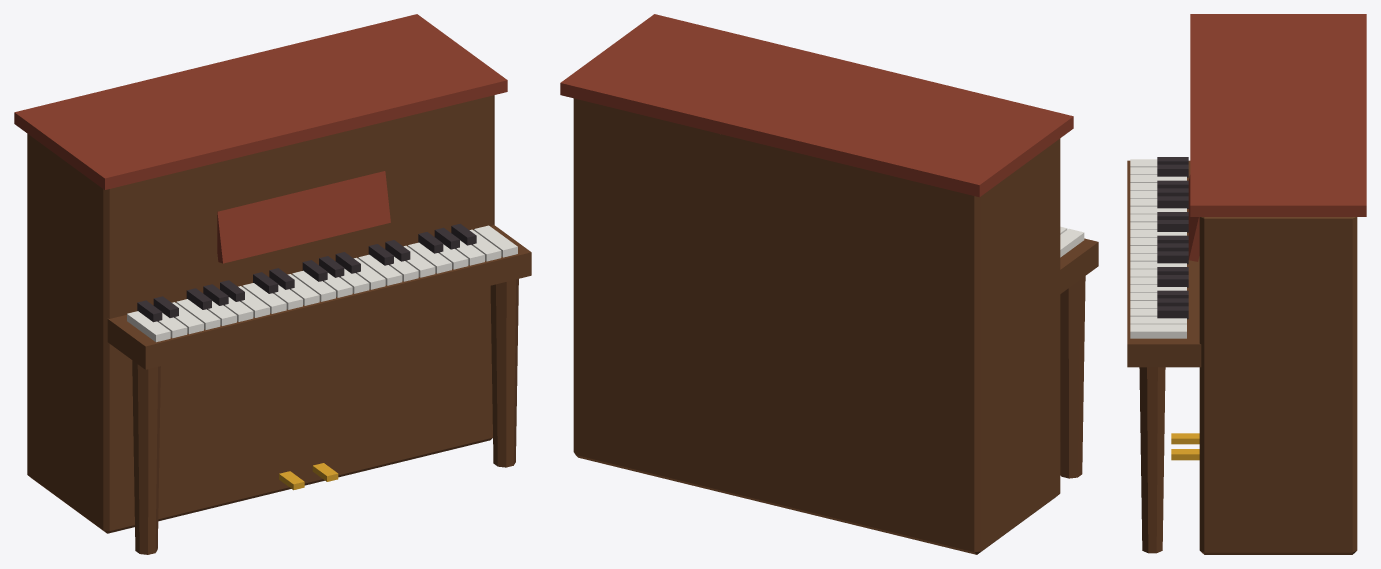
The model's file is piano.glb.
The picture shows the model from 3 angles, left to right: view 1: azimuth 30°, elevation 25°; view 2: azimuth 150°, elevation 25°; view 3: azimuth 270°, elevation 25°; orthographic projection. The views are drawn at different scales.
Visible parts, largest first — view 1: Piano case, Piano lid, Piano key bed, Piano white keys, Piano legs, Piano stand, Piano black keys, Piano pedals; view 2: Piano case, Piano lid, Piano legs, Piano key bed; view 3: Piano case, Piano lid, Piano white keys, Piano black keys, Piano legs, Piano key bed, Piano pedals, Piano stand.
Part boxes in pixels (left/top/right/bottom): Piano case: left=27, top=95, right=494, bottom=533; Piano lid: left=14, top=14, right=507, bottom=189; Piano key bed: left=107, top=224, right=531, bottom=369; Piano white keys: left=127, top=225, right=517, bottom=342; Piano legs: left=132, top=279, right=518, bottom=554; Piano stand: left=217, top=171, right=390, bottom=263; Piano black keys: left=137, top=223, right=476, bottom=322; Piano pedals: left=279, top=463, right=338, bottom=490; Piano case: left=573, top=98, right=1060, bottom=554; Piano lid: left=560, top=14, right=1073, bottom=197; Piano legs: left=1060, top=276, right=1085, bottom=478; Piano key bed: left=1060, top=238, right=1098, bottom=293; Piano case: left=1199, top=217, right=1357, bottom=554; Piano lid: left=1190, top=14, right=1366, bottom=216; Piano white keys: left=1130, top=159, right=1186, bottom=338; Piano black keys: left=1157, top=157, right=1188, bottom=319; Piano legs: left=1139, top=367, right=1165, bottom=553; Piano key bed: left=1127, top=160, right=1201, bottom=367; Piano pedals: left=1171, top=433, right=1199, bottom=460; Piano stand: left=1188, top=175, right=1199, bottom=261.
Size of the model in its own units: 1.44 by 1.24 by 0.76.
